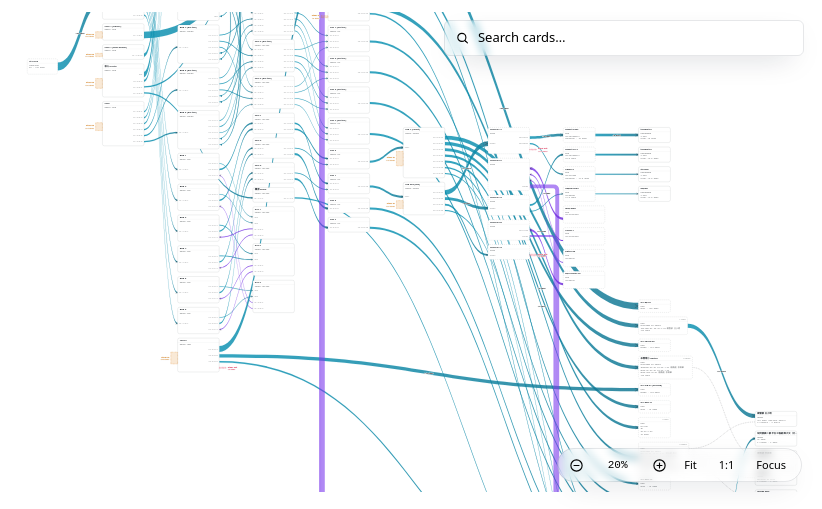
TraceView card search › finds a leaf by a client address and names the address that matched
In the field with test id "sankey-search-input": (635, 38) [478,28,793,48], type "10.42.7.31"
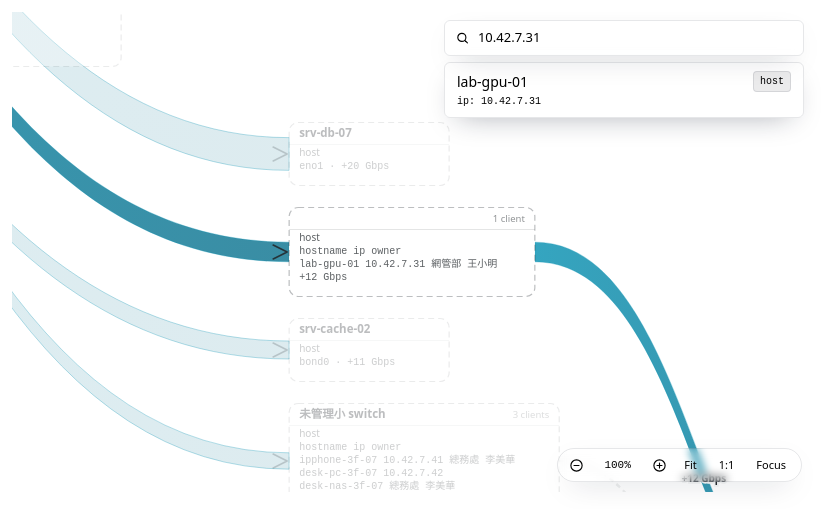
Check: the element with test id "search-result-list" shows "ip: 10.42.7.31", box [457,96,541,107]
